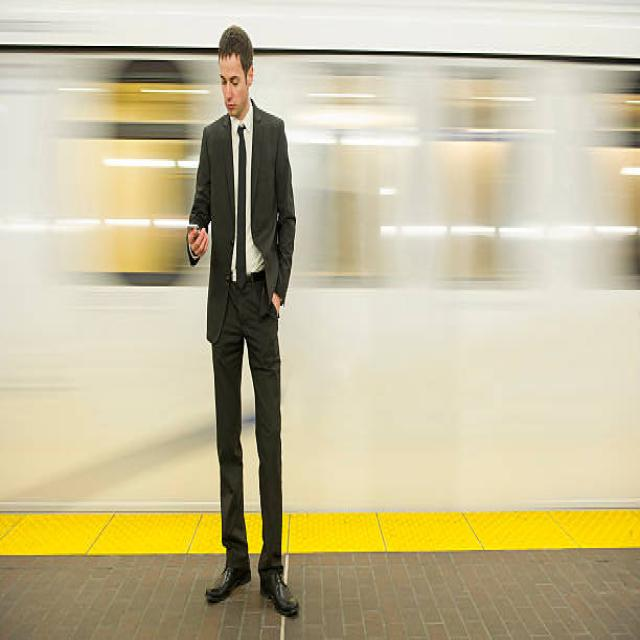stand: (193, 32, 299, 625)
